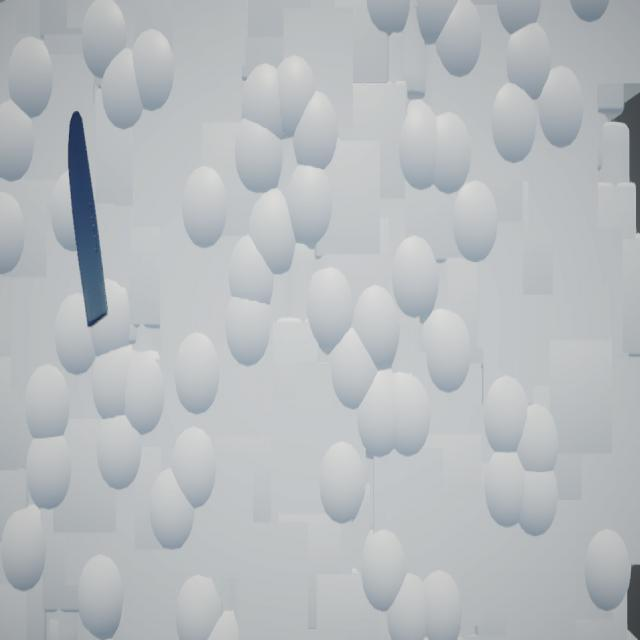top_knife: (69, 111, 109, 328)
